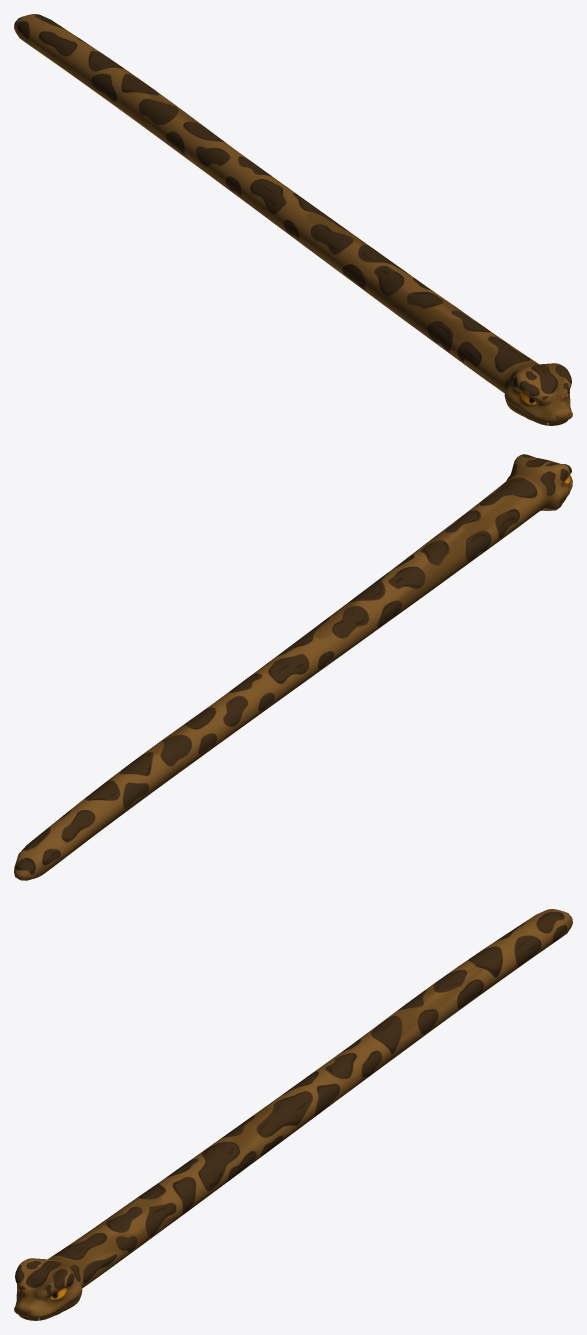
Rendered from Anaconda_Low.fbx.
The picture shows the model from 3 angles, top to bottom: view 1: azimuth 30°, elevation 25°; view 2: azimuth 150°, elevation 25°; view 3: azimuth 330°, elevation 25°; orthographic projection.
Parts seen in each view (by area): view 1: Anaconda; view 2: Anaconda; view 3: Anaconda.
Boxes of the visible parts, x1,y1,x2,y2 form: Anaconda: (14, 14, 572, 425); Anaconda: (14, 454, 572, 880); Anaconda: (14, 909, 572, 1320).
Size of the model in its own units: 19.27 by 14.64 by 322.
